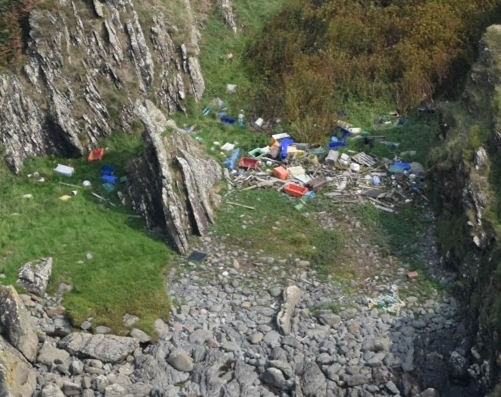scattered_barrel: (40, 143, 129, 209), (200, 73, 285, 133)
together_barrel: (216, 115, 438, 208)
white_in_green: (175, 237, 221, 274)
